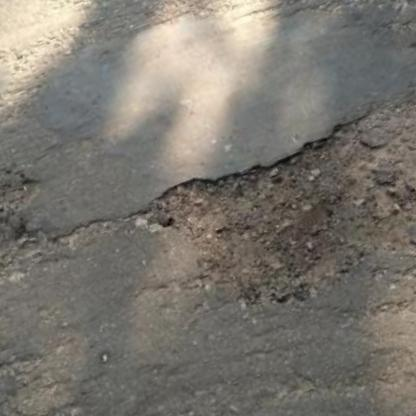pothole: (148, 91, 416, 348), (0, 162, 75, 311)
